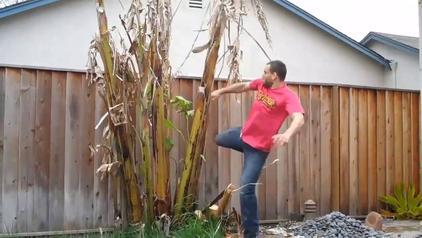sit: (365, 209, 387, 232)
